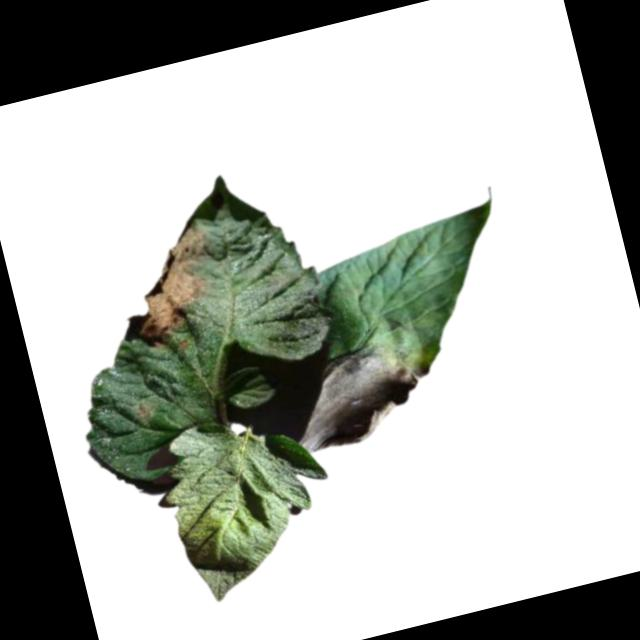Late_blight: (281, 334, 443, 457), (99, 215, 231, 357), (128, 397, 159, 428)
